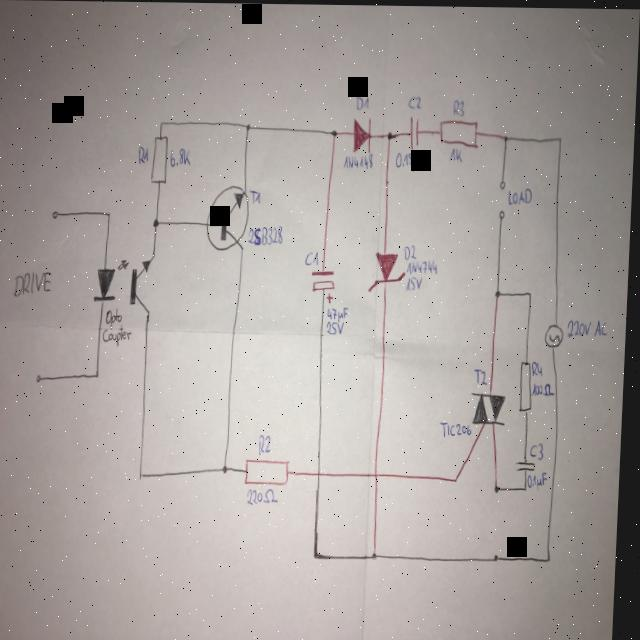capacitor: (312, 267, 339, 303), (408, 113, 422, 149), (518, 456, 540, 471)
crossover: (377, 469, 384, 478), (320, 469, 326, 477)
diode: (369, 248, 409, 292), (352, 114, 374, 152)
junction: (154, 217, 162, 227), (387, 130, 395, 140), (331, 126, 339, 136), (496, 287, 504, 296), (225, 463, 232, 473), (317, 551, 324, 560), (498, 482, 504, 492), (246, 121, 252, 131), (142, 471, 149, 479), (376, 550, 382, 559), (97, 371, 104, 378), (551, 553, 557, 561), (530, 288, 536, 296), (504, 132, 509, 140), (558, 134, 564, 140), (160, 119, 165, 126), (108, 210, 113, 216), (527, 483, 532, 489), (458, 475, 462, 481)
resistor: (247, 456, 294, 485), (438, 117, 481, 147), (151, 133, 170, 184), (521, 357, 538, 411)
source: (546, 321, 567, 346)
terminal: (52, 209, 63, 219), (499, 206, 507, 218), (38, 373, 47, 383), (500, 178, 508, 188)
text: (14, 269, 55, 297), (569, 316, 612, 335), (249, 223, 286, 244), (441, 418, 476, 437), (104, 325, 135, 346), (250, 486, 284, 504), (396, 150, 426, 170), (343, 151, 376, 168), (508, 184, 535, 204), (408, 257, 440, 273), (530, 469, 553, 490), (170, 146, 192, 167), (107, 305, 125, 330), (534, 379, 559, 395), (329, 304, 352, 320), (327, 318, 348, 335), (261, 433, 276, 455), (475, 365, 492, 384), (533, 440, 549, 459), (408, 274, 425, 290), (249, 187, 265, 204), (138, 144, 151, 164), (453, 95, 466, 115), (449, 145, 465, 161), (355, 94, 371, 109), (405, 242, 419, 258), (307, 249, 321, 265), (408, 93, 422, 108), (534, 358, 546, 374)
transistor: (206, 184, 252, 250)
